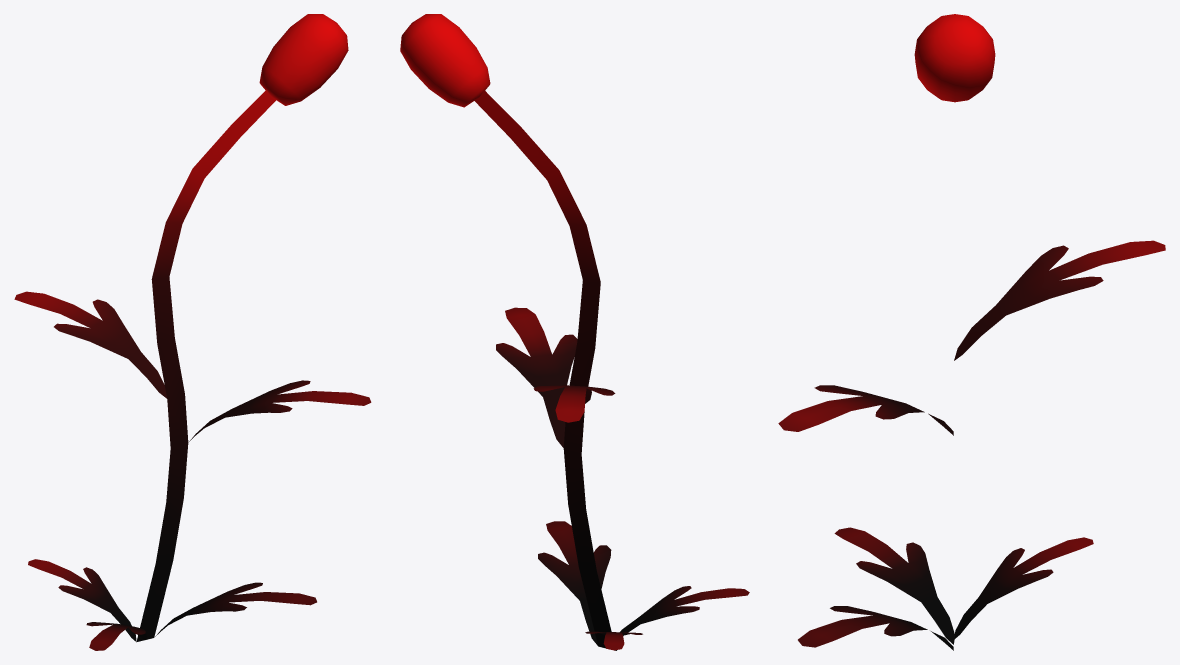
File: SM_PoppyBud_02_LOD0.fbx
3 renders of one model, left to right at view 1: azimuth 30°, elevation 25°; view 2: azimuth 150°, elevation 25°; view 3: azimuth 270°, elevation 25°, orthographic. The views are drawn at different scales.
Parts seen in each view (by area): view 1: SM_PoppyBud_02_LOD0; view 2: SM_PoppyBud_02_LOD0; view 3: SM_PoppyBud_02_LOD0.
Part boxes in pixels (x1,y1,x2,y2): SM_PoppyBud_02_LOD0: [14, 14, 371, 650]; SM_PoppyBud_02_LOD0: [400, 14, 749, 650]; SM_PoppyBud_02_LOD0: [778, 14, 1165, 650].
Size of the model in its own units: 67.42 by 60.43 by 126.
